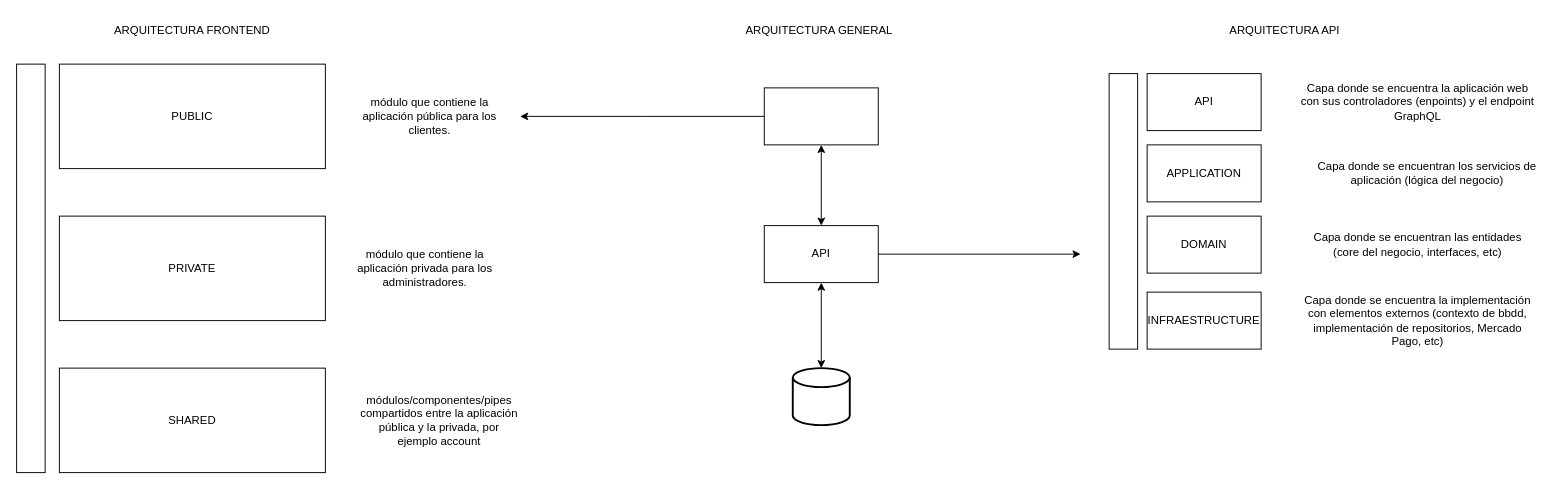
Image size: 1563x489. Some labels were removed from this diagram. The centre of each missing label's shape, as x and y in pixels:
APP ANGULAR: the point at 30,268
BBDD: the point at 820,396
FRONTEND: the point at 820,116
SOLUTION: the point at 1123,211
